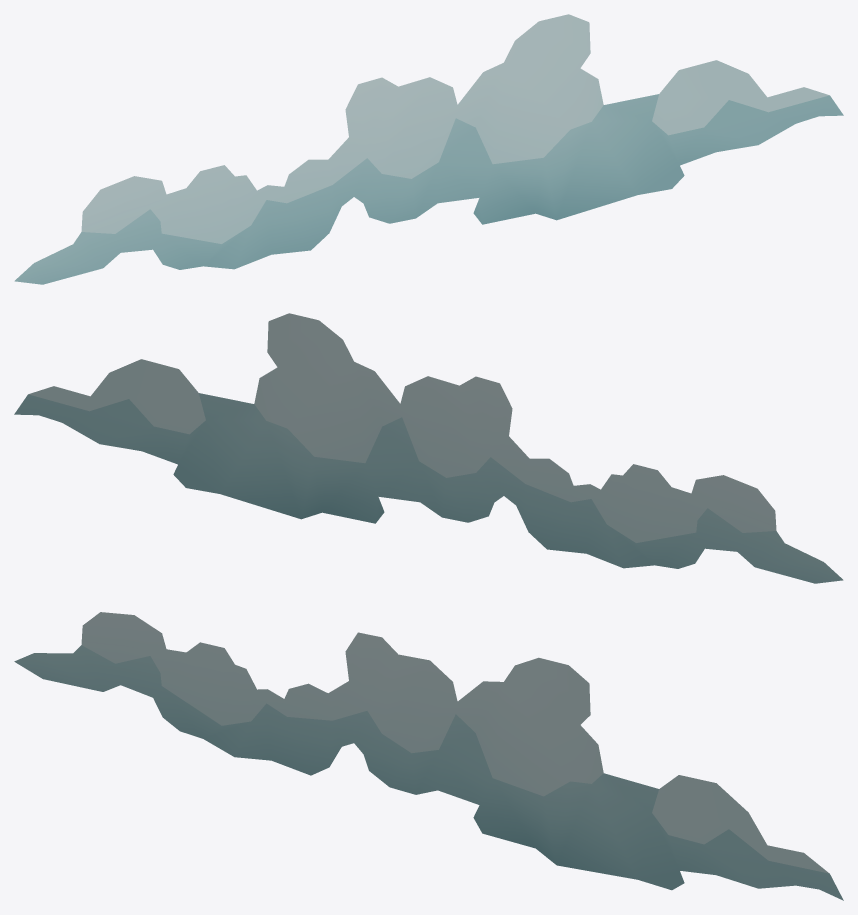
Rendered from AP_Cloud_003.FBX.
The picture shows the model from 3 angles, top to bottom: view 1: azimuth 30°, elevation 25°; view 2: azimuth 150°, elevation 25°; view 3: azimuth 330°, elevation 25°; orthographic projection.
Parts seen in each view (by area): view 1: AP_Cloud_003; view 2: AP_Cloud_003; view 3: AP_Cloud_003.
Part boxes in pixels (box(x1,y1,x2,y2)): AP_Cloud_003: box(14, 14, 843, 284); AP_Cloud_003: box(14, 313, 843, 583); AP_Cloud_003: box(14, 612, 843, 900).
Bounding box in the file's own units: 409 × 95.76 × 1.55e-05.
